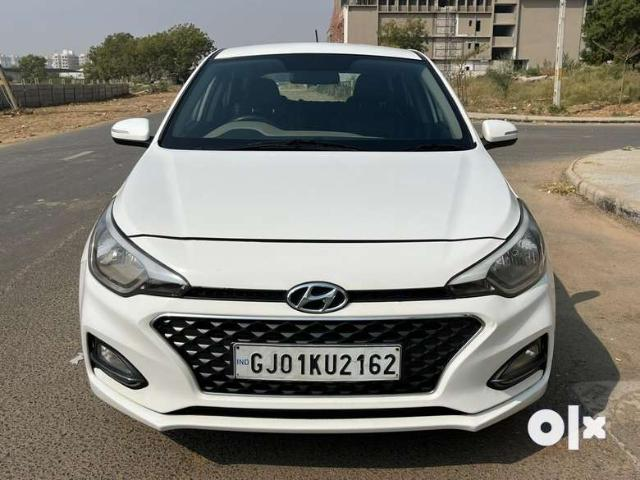Indian_Number_Plate: (237, 342, 401, 380)
